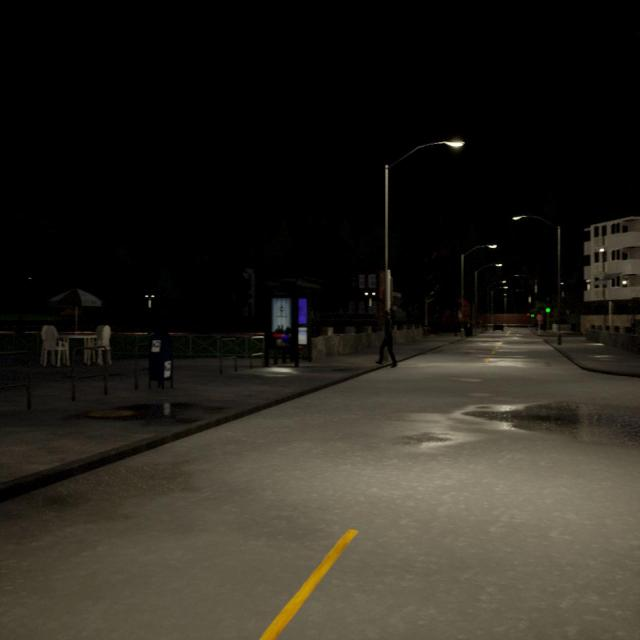Pedestrian: (376, 310, 396, 366)
Vehicle: (492, 322, 504, 332)
traffic_light: (390, 278, 394, 302), (546, 301, 550, 314), (530, 312, 535, 318)
